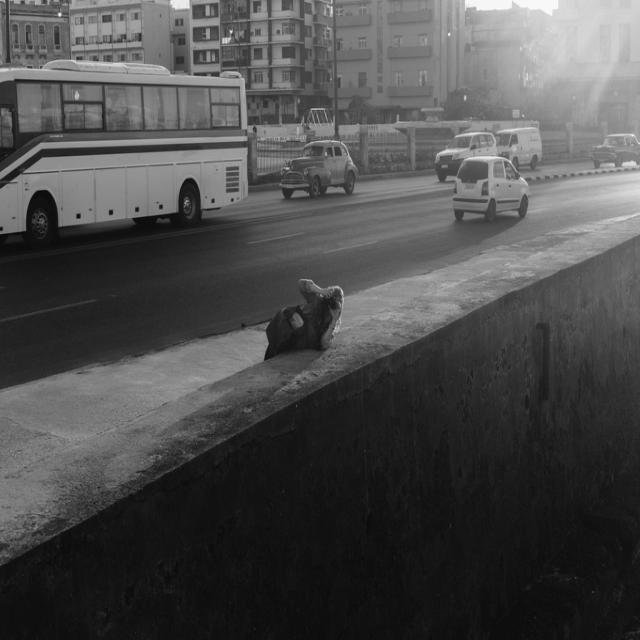Buses: (1, 59, 250, 247)
Heavy Duty Truck: (503, 125, 543, 171)
Passenger Car: (278, 136, 360, 200), (453, 160, 528, 222), (589, 133, 639, 171)
Pickup Trucks: (433, 132, 498, 182)
